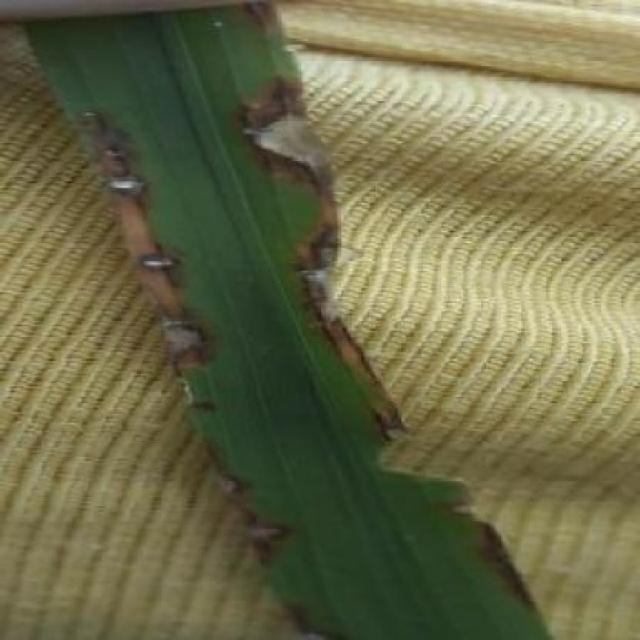Bacterial_Leaf_Blight: (436, 485, 547, 626), (230, 66, 327, 188), (5, 6, 282, 46), (279, 208, 359, 337), (147, 292, 230, 406), (66, 111, 148, 214), (271, 586, 354, 640), (232, 502, 292, 562), (137, 224, 192, 284), (368, 395, 422, 442), (212, 456, 246, 495)
